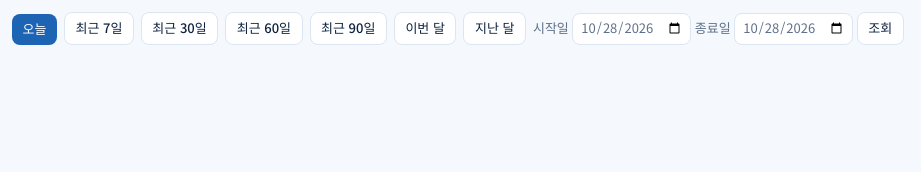
Test: PeriodPicker › 시작일이 종료일보다 늦으면 오류를 표시하고 이동하지 않는다
The image size is (921, 172).
Type "2026-10-10" into the date field labelled "시작일" at x=632, y=29, box [572, 13, 691, 45]
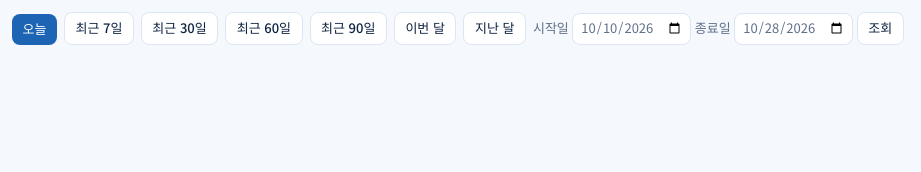
Type "2026-10-01" into the date field labelled "종료일" at x=794, y=29, box [734, 13, 853, 45]
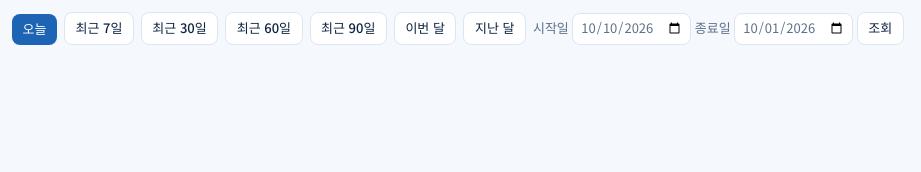
Click the button "조회" at x=880, y=29, box [857, 12, 904, 45]
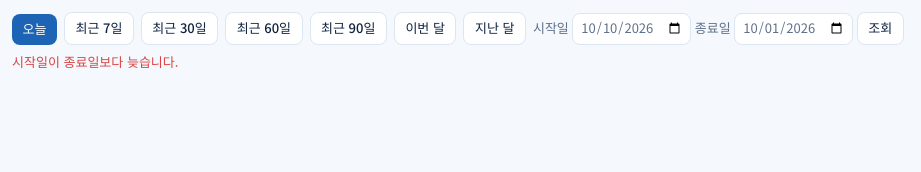
Expected: the message reads "시작일이 종료일보다 늦습니다.", [12, 52, 178, 71]
